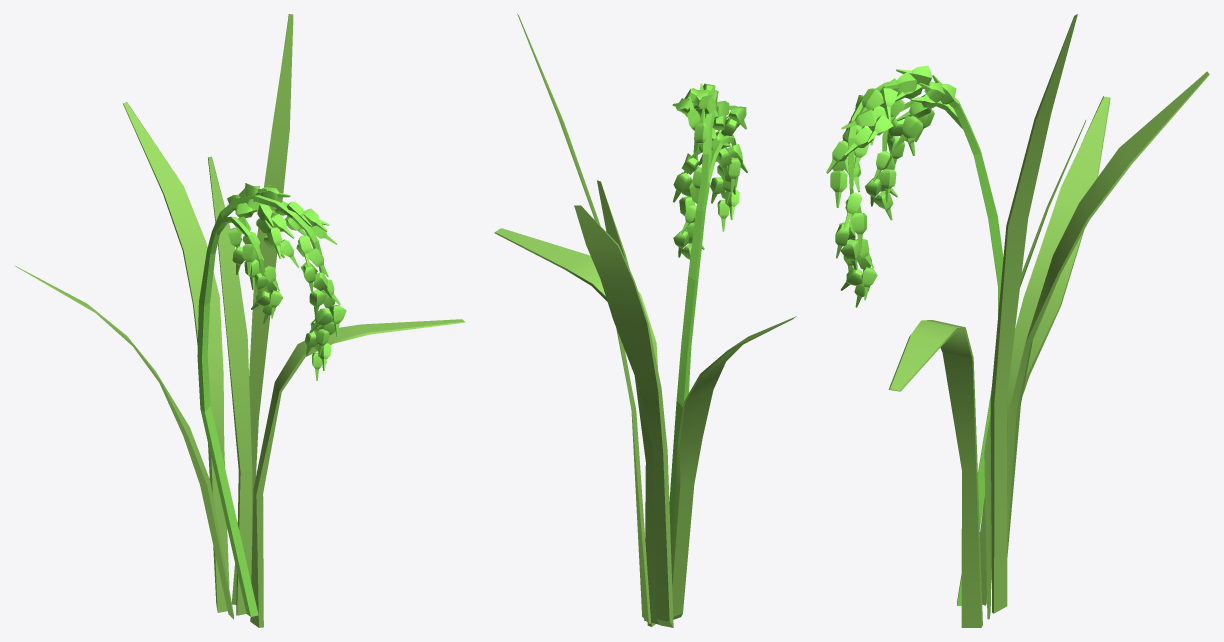
The model's file is lua_xanh.glb.
3 views of the same model, side by side, from view 1: azimuth 30°, elevation 25°; view 2: azimuth 150°, elevation 25°; view 3: azimuth 270°, elevation 25° (orthographic). The views are drawn at different scales.
Parts seen in each view (by area): view 1: Object_3, Object_4; view 2: Object_3, Object_4; view 3: Object_3, Object_4.
Boxes of the visible parts, left/top/right/bottom form: Object_3: left=15, top=14, right=465, bottom=627; Object_4: left=197, top=183, right=346, bottom=616; Object_3: left=494, top=14, right=796, bottom=627; Object_4: left=669, top=83, right=747, bottom=555; Object_3: left=888, top=14, right=1209, bottom=627; Object_4: left=826, top=65, right=1003, bottom=605.
Bounding box in the file's own units: 37.52 × 55.88 × 29.6.
